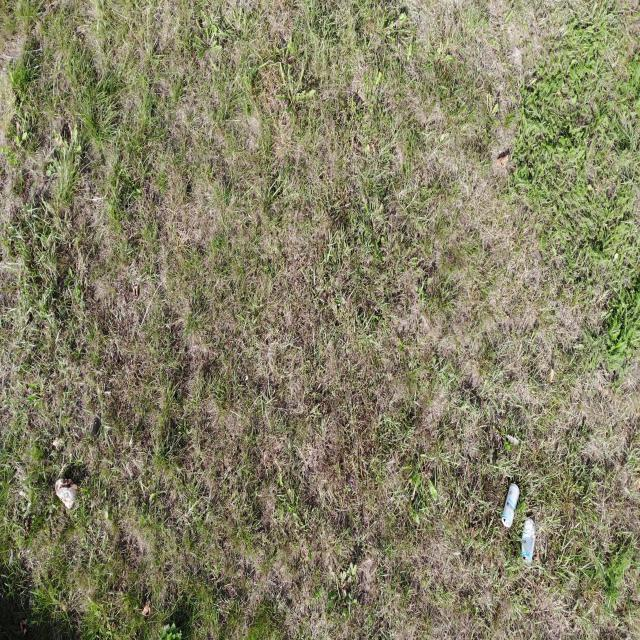rubbish: (502, 482, 520, 526), (55, 479, 77, 510), (522, 518, 536, 564)
